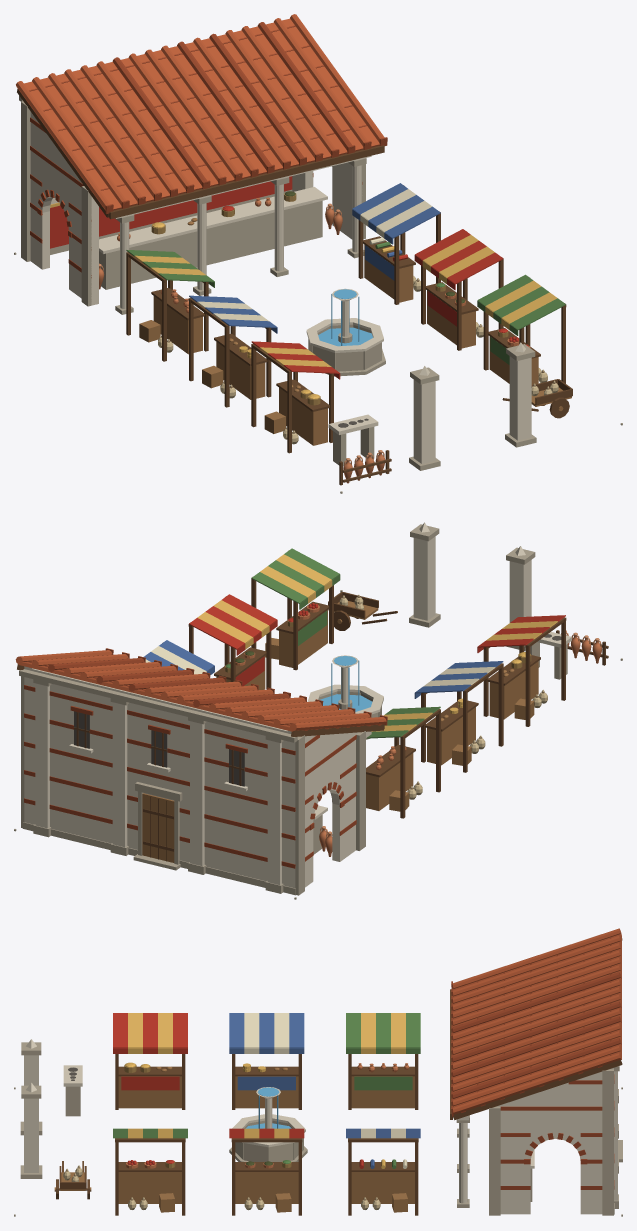
File: Markt.fbx
The picture shows the model from 3 angles, top to bottom: view 1: azimuth 30°, elevation 25°; view 2: azimuth 150°, elevation 25°; view 3: azimuth 270°, elevation 25°; orthographic projection. The views are drawn at different scales.
Visible parts, largest first — view 1: Markt; view 2: Markt; view 3: Markt.
Boxes of the visible parts, x1=… form: Markt: x1=14, y1=14, x2=622, y2=493; Markt: x1=14, y1=522, x2=622, y2=899; Markt: x1=14, y1=928, x2=622, y2=1216.
Bounding box in the file's own units: 3.64 × 2.16 × 7.32.
